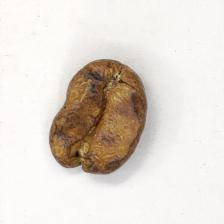NG: (51, 66, 137, 173)
